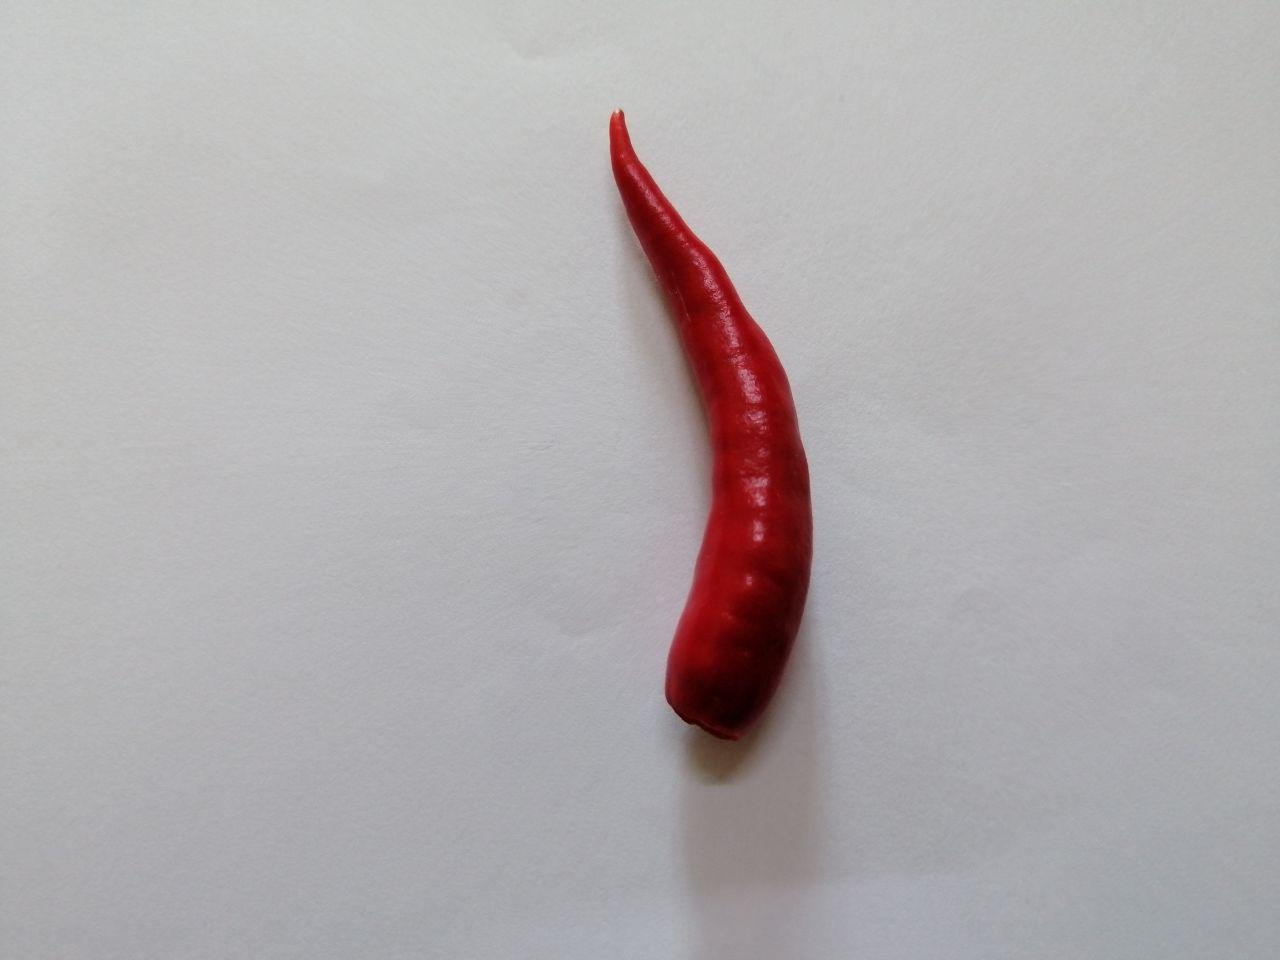lada merah: (593, 106, 830, 761)
